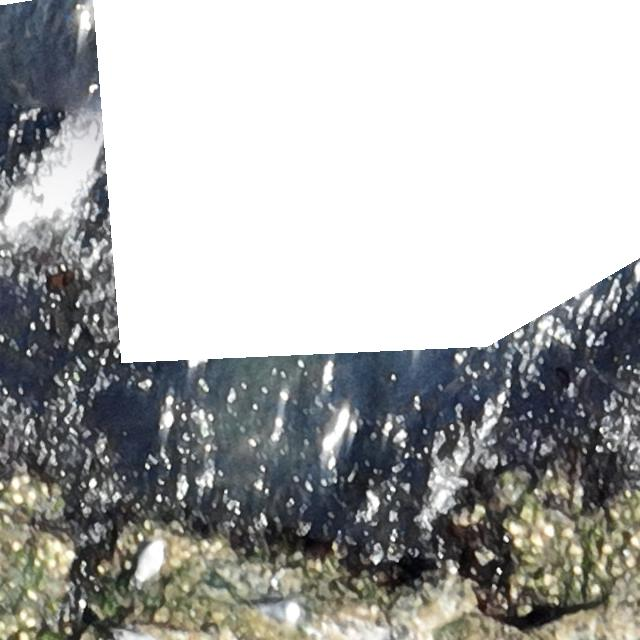umineko: (134, 540, 162, 581), (259, 602, 301, 623)
